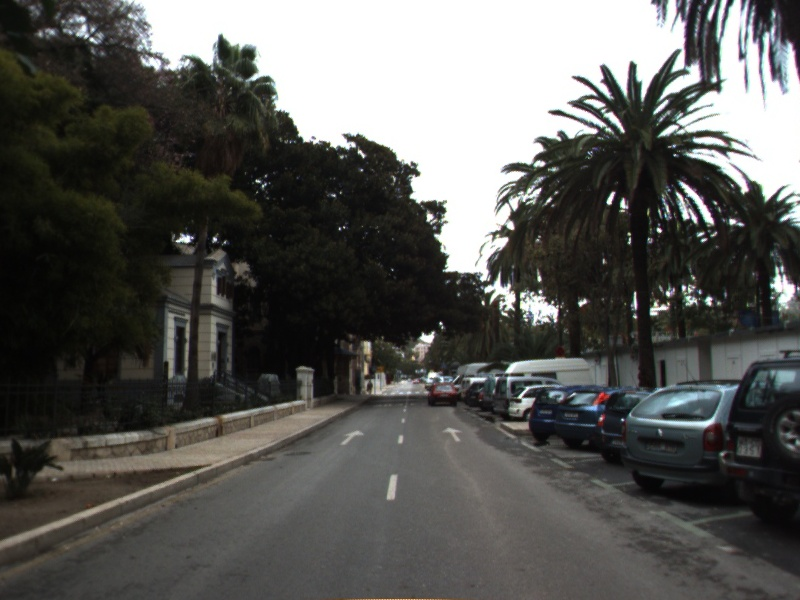STRAIGHT: (337, 428, 366, 448), (440, 425, 465, 444)
